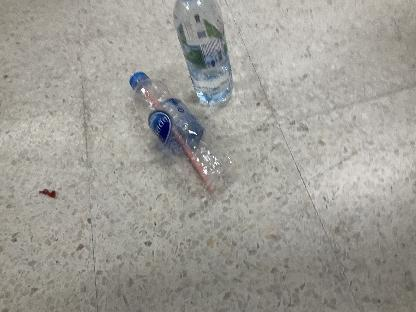Plastic Bottle: (129, 72, 238, 199), (172, 0, 233, 106)
